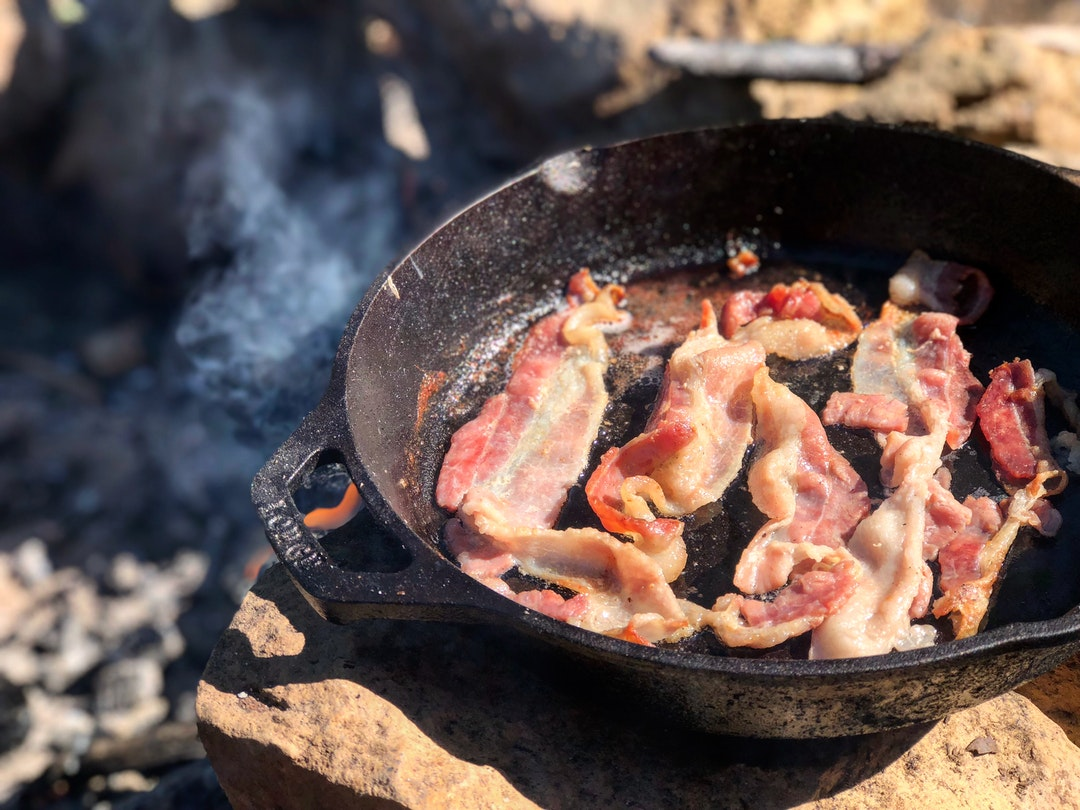bacon: (461, 267, 1041, 627)
